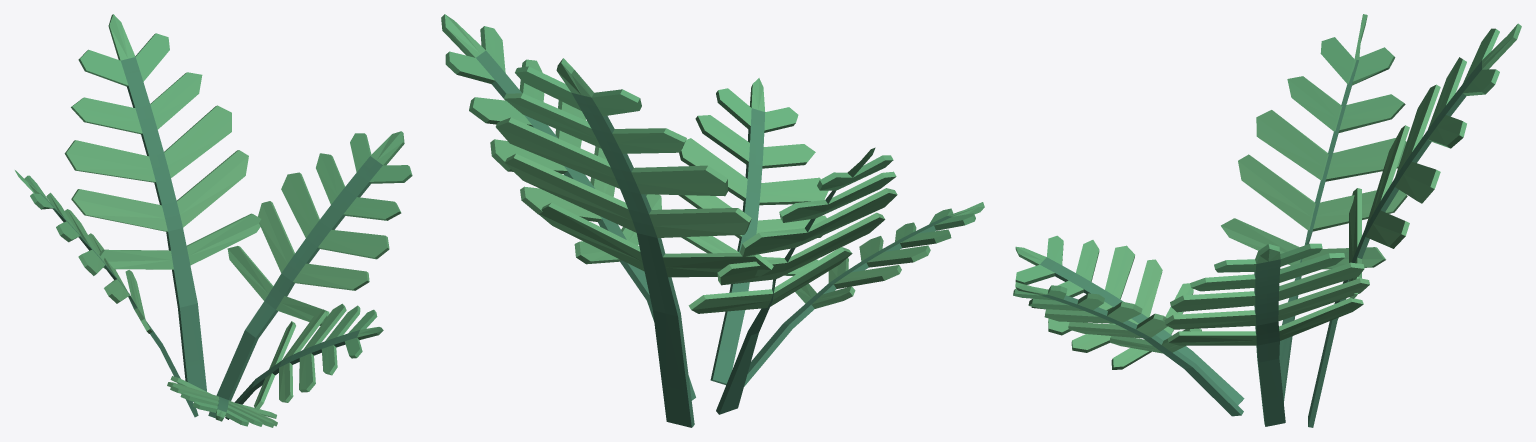
The model's file is Fern_01.fbx.
3 views of the same model, side by side, from view 1: azimuth 30°, elevation 25°; view 2: azimuth 150°, elevation 25°; view 3: azimuth 270°, elevation 25° (orthographic). The views are drawn at different scales.
Parts seen in each view (by area): view 1: Fern_01, Fern_01.001, Fern_01.003, Fern_01.002, Fern_01.004; view 2: Fern_01, Fern_01.002, Fern_01.003, Fern_01.001, Fern_01.004; view 3: Fern_01.002, Fern_01.001, Fern_01, Fern_01.004, Fern_01.003.
Part boxes in pixels (x1,y1,x2,y2): Fern_01: [64, 14, 261, 401]; Fern_01.001: [216, 131, 412, 400]; Fern_01.003: [225, 303, 383, 419]; Fern_01.002: [15, 170, 198, 417]; Fern_01.004: [167, 376, 277, 427]; Fern_01: [495, 58, 773, 427]; Fern_01.002: [688, 147, 897, 414]; Fern_01.003: [678, 78, 828, 384]; Fern_01.001: [441, 14, 695, 400]; Fern_01.004: [744, 202, 984, 386]; Fern_01.002: [1221, 14, 1407, 405]; Fern_01.001: [1164, 243, 1369, 426]; Fern_01: [1308, 23, 1521, 427]; Fern_01.004: [1015, 235, 1244, 405]; Fern_01.003: [1013, 282, 1243, 416].
Size of the model in its own units: 0.96 by 0.8503 by 0.9824.
